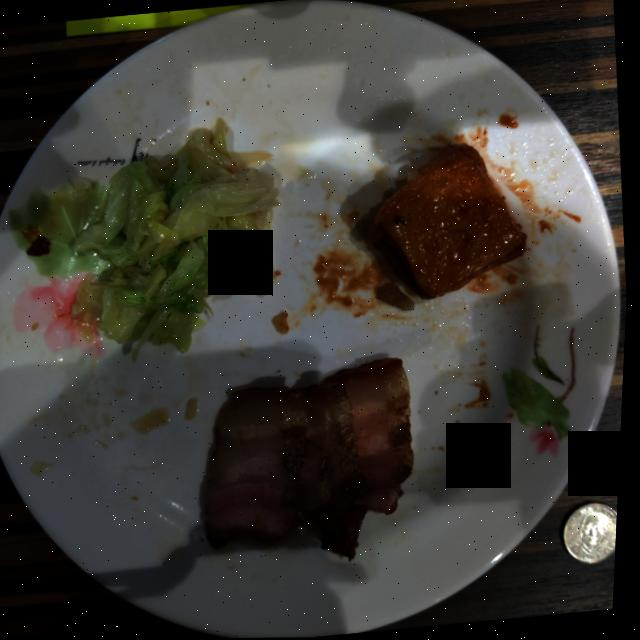cabbage: (74, 119, 279, 359)
coin: (567, 503, 622, 564)
creamy tofu: (370, 145, 528, 298)
red grilled pork: (209, 358, 417, 559)
